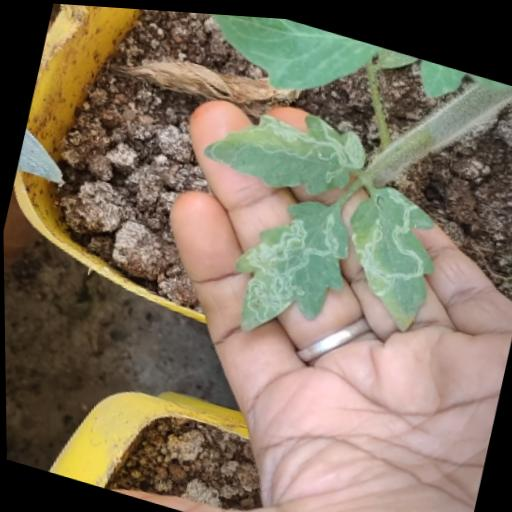Healthy: (190, 10, 384, 109)
Leaf_Miner: (215, 178, 360, 354), (197, 81, 369, 206), (325, 168, 450, 333)
